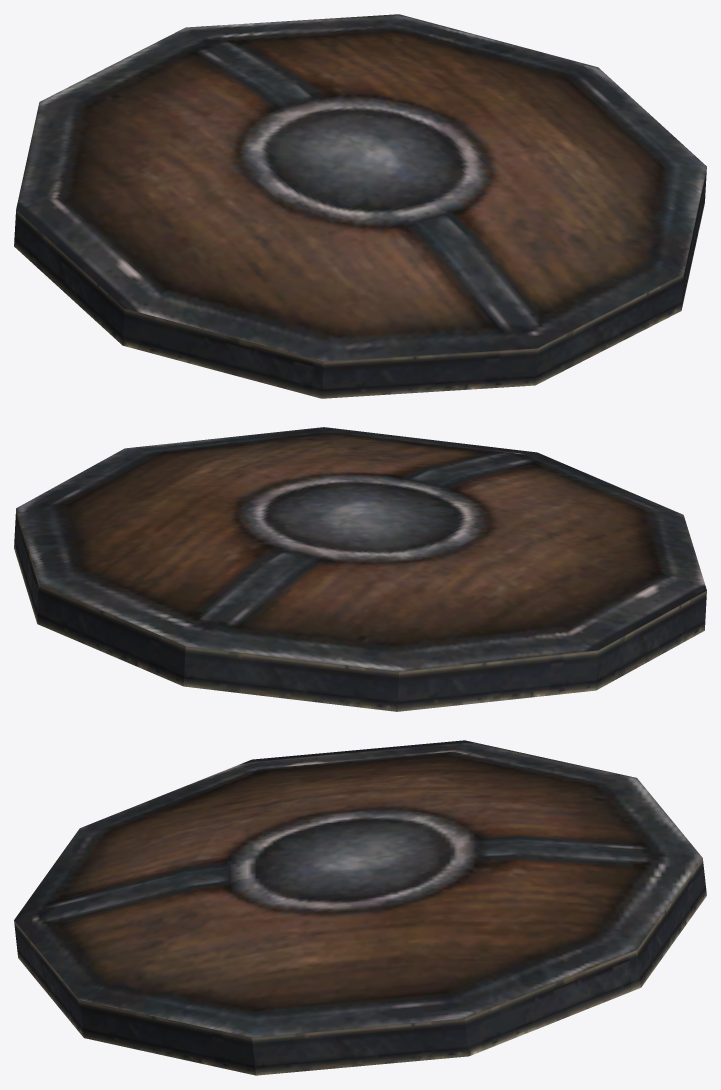
The model's file is shield.fbx.
The picture shows the model from 3 angles, top to bottom: view 1: azimuth 30°, elevation 25°; view 2: azimuth 150°, elevation 25°; view 3: azimuth 270°, elevation 25°; orthographic projection. The views are drawn at different scales.
Parts seen in each view (by area): view 1: shield; view 2: shield; view 3: shield.
Boxes of the visible parts, x1,y1,x2,y2 form: shield: (14, 14, 706, 398); shield: (14, 427, 706, 711); shield: (14, 740, 706, 1075).
Size of the model in its own units: 121 by 22.6 by 128.
